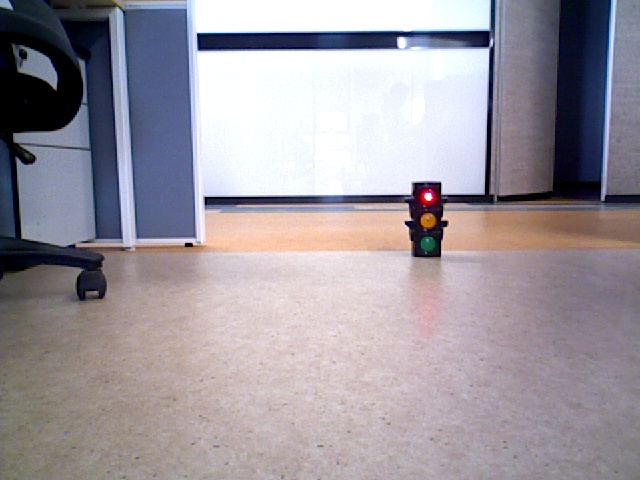red: (413, 184, 439, 253)
